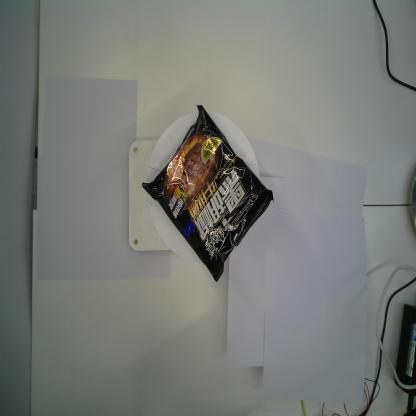Instant Noodles: (142, 106, 274, 285)
